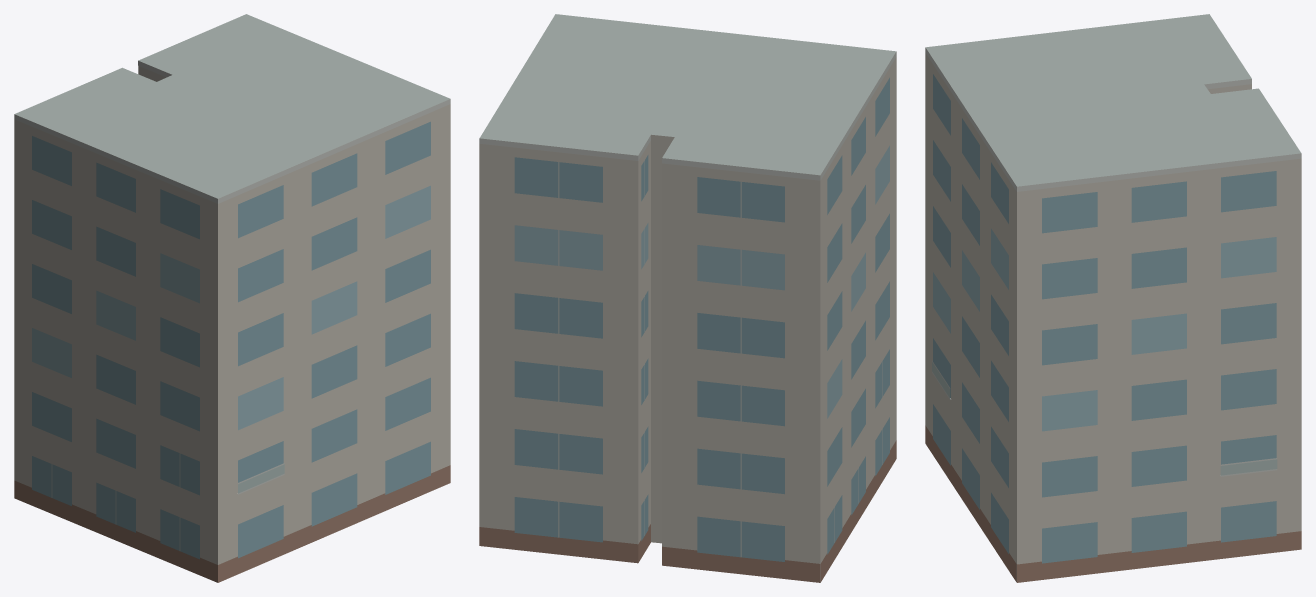
The model's file is survey-upis-32934556.glb.
3 views of the same model, side by side, from view 1: azimuth 30°, elevation 25°; view 2: azimuth 150°, elevation 25°; view 3: azimuth 270°, elevation 25° (orthographic). The views are drawn at different scales.
Parts seen in each view (by area): view 1: survey-upis-32934556.tmp; view 2: survey-upis-32934556.tmp; view 3: survey-upis-32934556.tmp.
Part boxes in pixels (bbox=[...]): survey-upis-32934556.tmp: bbox=[14, 14, 450, 582]; survey-upis-32934556.tmp: bbox=[479, 14, 896, 582]; survey-upis-32934556.tmp: bbox=[925, 14, 1301, 582].
Size of the model in its own units: 17.12 by 18.3 by 15.76.
